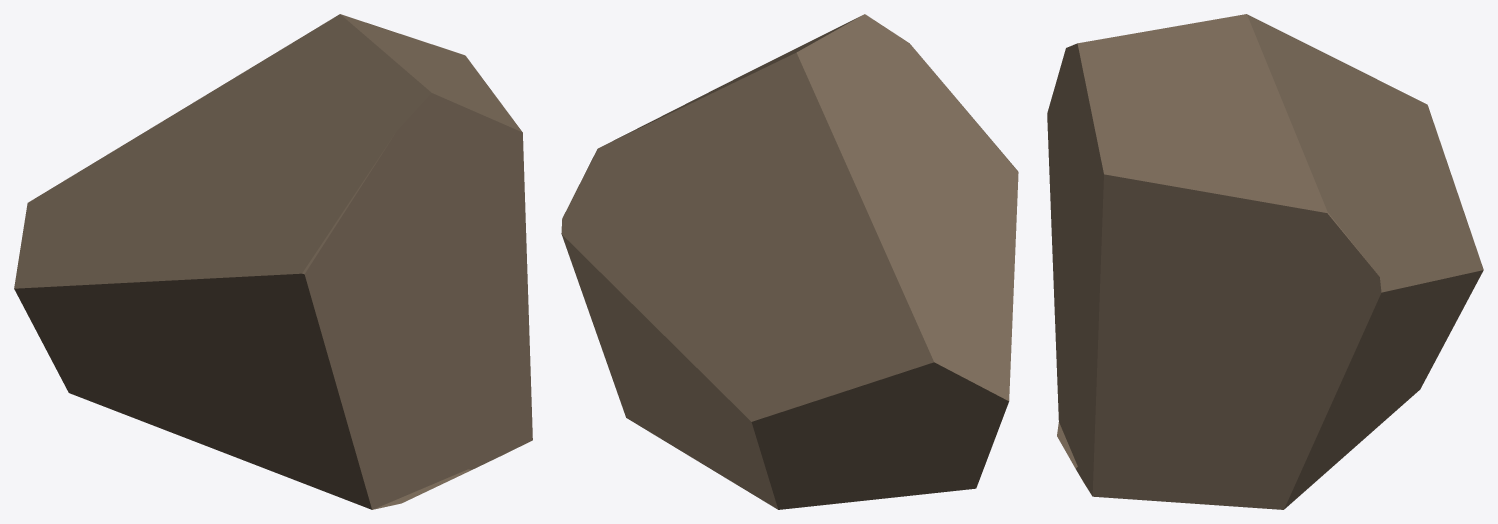
File: rock_6.fbx
The picture shows the model from 3 angles, left to right: view 1: azimuth 30°, elevation 25°; view 2: azimuth 150°, elevation 25°; view 3: azimuth 270°, elevation 25°; orthographic projection. The views are drawn at different scales.
Parts seen in each view (by area): view 1: rock_6; view 2: rock_6; view 3: rock_6.
Boxes of the visible parts, x1,y1,x2,y2 form: rock_6: [14, 14, 532, 509]; rock_6: [561, 14, 1018, 509]; rock_6: [1047, 14, 1483, 509].
Size of the model in its own units: 1.59 by 1.42 by 1.28.
